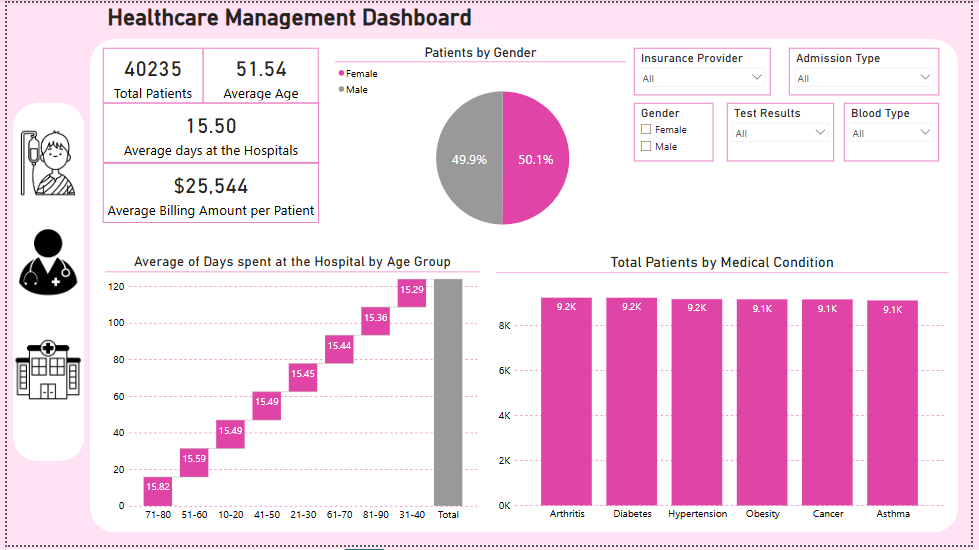

The page's visual inventory and layout, read from the dashboard file:
{"tool":"powerbi","page":{"name":"Patients Demographics","canvas":[1920,1080],"ordinal":0},"visuals":[{"type":"shape","box":[164.6,72.4,1729.8,983.4],"z":0},{"type":"textbox","title":"Healthcare Management Dashboard","box":[195.4,0,807.8,57.1],"z":1000},{"type":"card","fields":{"Values":["healthcare_dataset.Name"]},"box":[191,90,199.8,109.8],"z":2000},{"type":"shape","box":[11,199.8,142.7,713.4],"z":3000},{"type":"card","fields":{"Values":["healthcare_dataset.Age"]},"box":[390.7,90,230.5,109.8],"z":4000},{"type":"card","fields":{"Values":["healthcare_dataset.Days spent at the Hospital"]},"box":[191,199.8,430.2,118.5],"z":5000},{"type":"pieChart","title":"Patients by Gender","fields":{"Category":["healthcare_dataset.Gender"],"Y":["healthcare_dataset.Name"]},"box":[654.1,81.2,579.5,417.1],"z":6000},{"type":"waterfallChart","fields":{"Category":["healthcare_dataset.Age Group"],"Y":["healthcare_dataset.Days spent at the Hospital"]},"box":[195.3,498.2,747.2,544],"z":7000},{"type":"columnChart","title":"Total Patients by Medical Condition","fields":{"Category":["healthcare_dataset.Medical Condition"],"Y":["healthcare_dataset.Name"]},"box":[974.4,498.2,900.7,544],"z":8000},{"type":"slicer","fields":{"Values":["healthcare_dataset.Blood Type"]},"box":[1668.3,199.8,188.8,116.3],"z":8001},{"type":"slicer","fields":{"Values":["healthcare_dataset.Gender"]},"box":[1249,199.8,158,116.3],"z":8002},{"type":"slicer","fields":{"Values":["healthcare_dataset.Admission Type"]},"box":[1558.5,90,298.5,94.4],"z":8003},{"type":"slicer","fields":{"Values":["healthcare_dataset.Test Results"]},"box":[1435.6,199.8,212.9,116.3],"z":8004},{"type":"slicer","fields":{"Values":["healthcare_dataset.Insurance Provider"]},"box":[1249,90,272.2,94.4],"z":8005},{"type":"image","box":[0,239.3,164.6,158],"z":8006},{"type":"image","box":[0,436.8,164.6,160.2],"z":8007},{"type":"card","fields":{"Values":["healthcare_dataset.Billing Amount"]},"box":[191,318.3,430.2,118.5],"z":8008},{"type":"image","box":[11,548.8,140.5,364.4],"z":8009}]}

Visuals, with their boxes in screenshot pixels (x1, y1, x2, y2), scaled from the page's 1920x1080 canvas onto the 979x550 screenshot:
shape: 84:37:966:538
"Healthcare Management Dashboard" textbox: 100:0:512:29
card - healthcare_dataset.Name: 97:46:199:102
shape: 6:102:78:465
card - healthcare_dataset.Age: 199:46:317:102
card - healthcare_dataset.Days spent at the Hospital: 97:102:317:162
"Patients by Gender" pieChart: 334:41:629:254
waterfallChart - healthcare_dataset.Age Group x healthcare_dataset.Days spent at the Hospital: 100:254:481:531
"Total Patients by Medical Condition" columnChart: 497:254:956:531
slicer - healthcare_dataset.Blood Type: 851:102:947:161
slicer - healthcare_dataset.Gender: 637:102:717:161
slicer - healthcare_dataset.Admission Type: 795:46:947:94
slicer - healthcare_dataset.Test Results: 732:102:841:161
slicer - healthcare_dataset.Insurance Provider: 637:46:776:94
image: 0:122:84:202
image: 0:222:84:304
card - healthcare_dataset.Billing Amount: 97:162:317:222
image: 6:279:77:465
